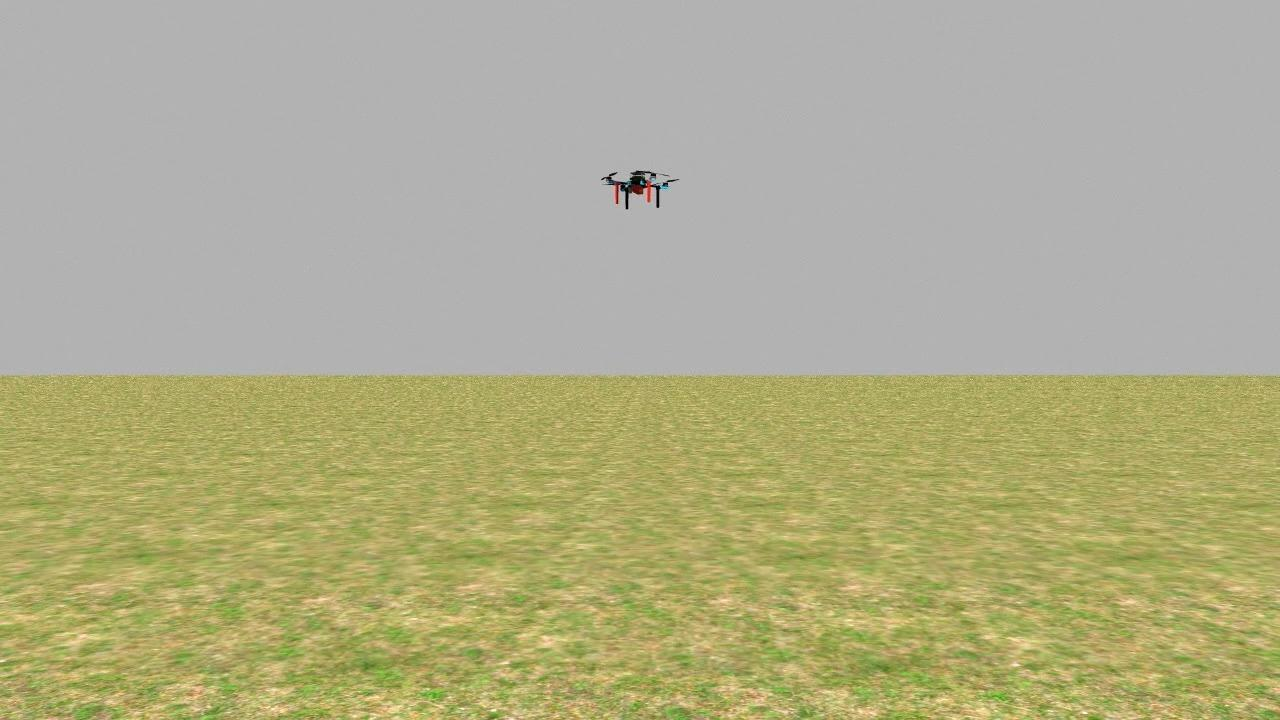UAV: (600, 161, 683, 212)
